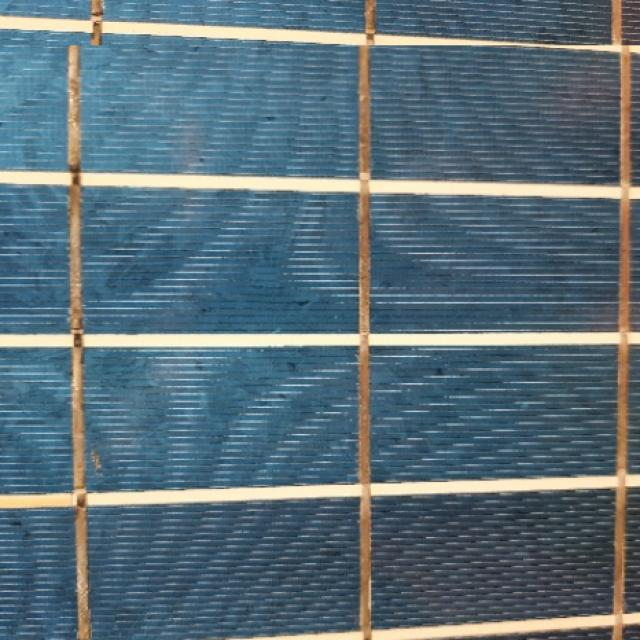Clean: (0, 45, 640, 640)
